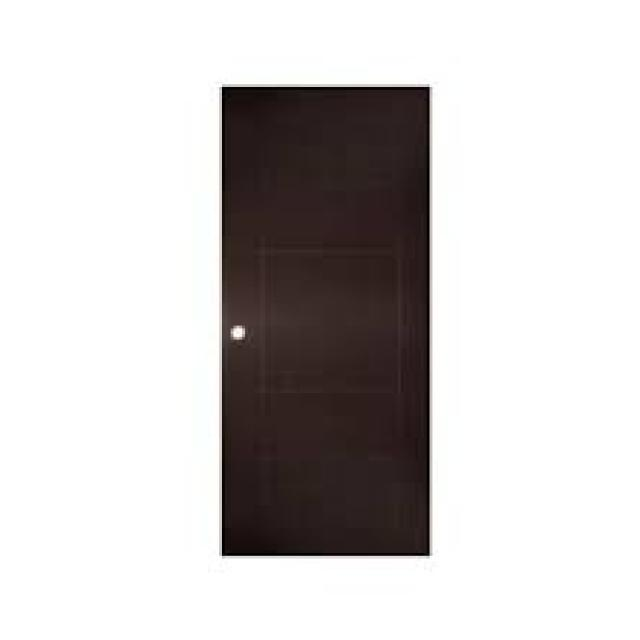door: (221, 86, 431, 557)
